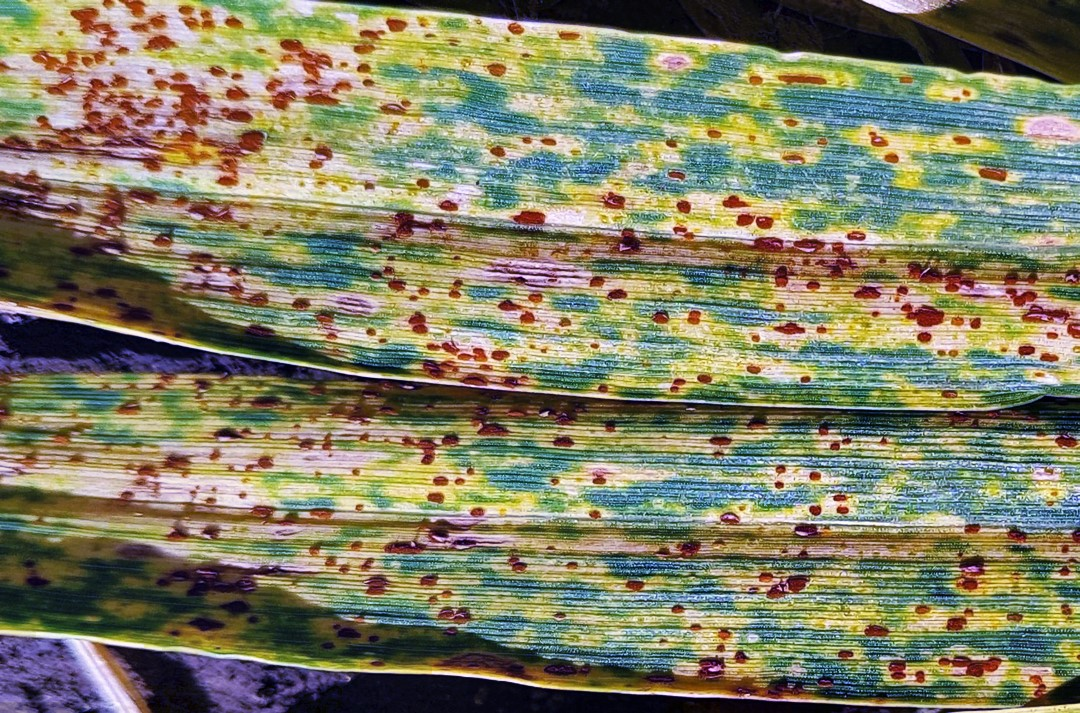Leaf Rust: (26, 9, 724, 663)
